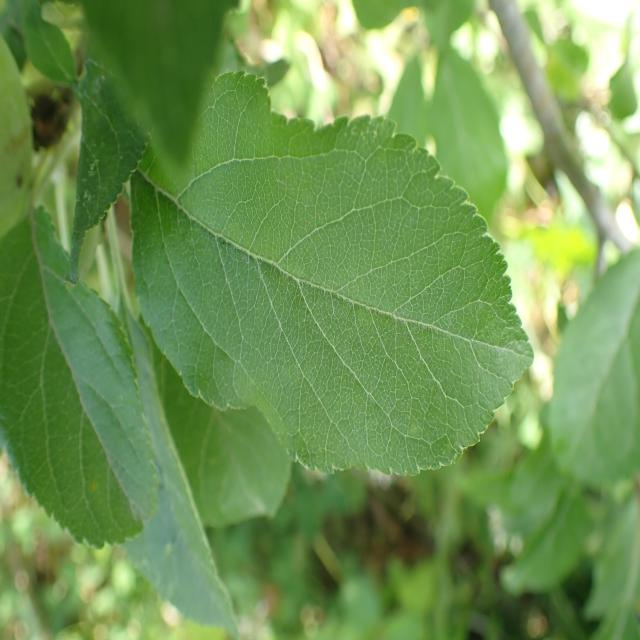healthy: (130, 70, 534, 480), (0, 204, 159, 550), (543, 247, 640, 489)
